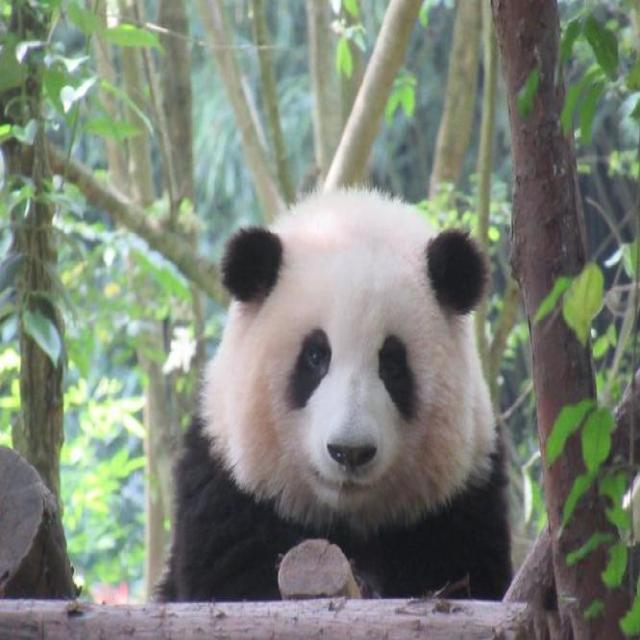panda: (150, 176, 538, 620)
